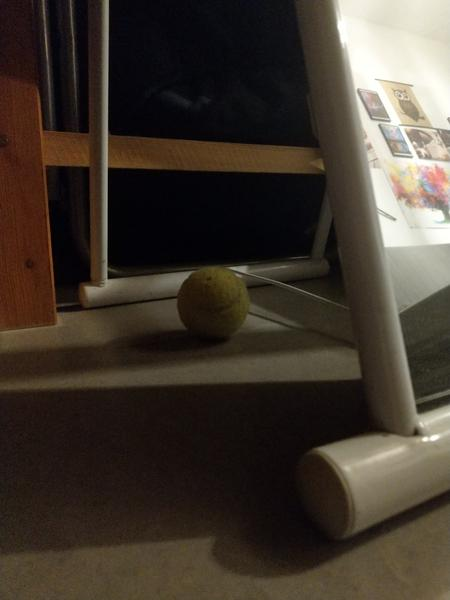Tennisball: (176, 263, 254, 344)
